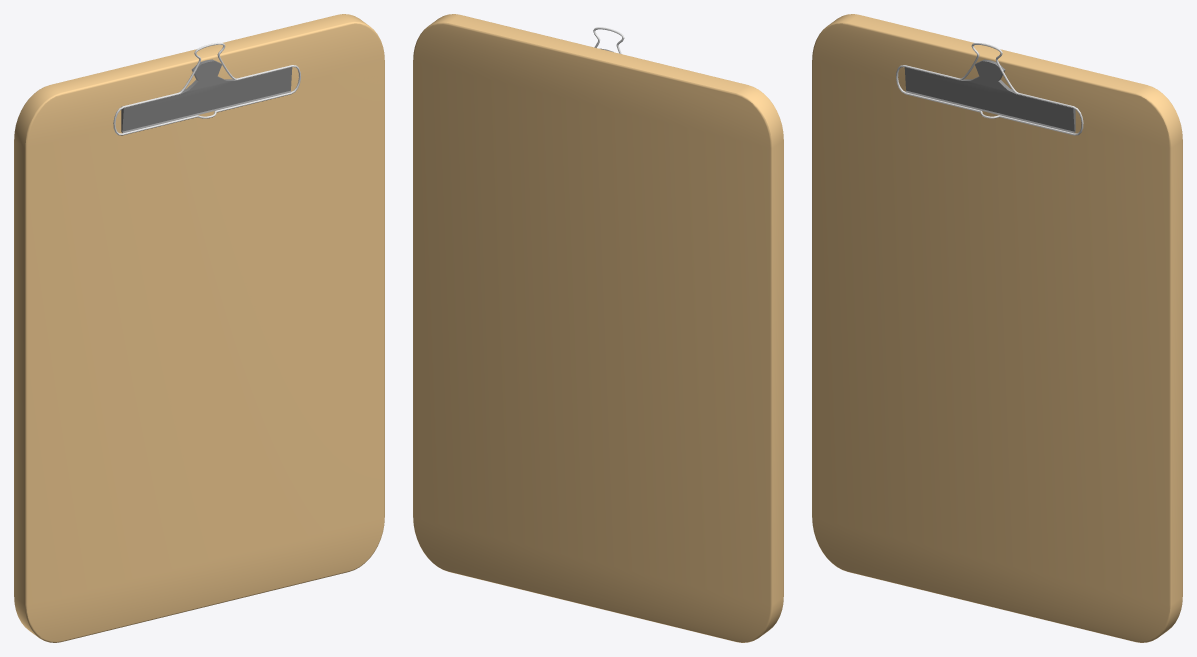
The model's file is Clipboard.fbx.
3 renders of one model, left to right at view 1: azimuth 30°, elevation 25°; view 2: azimuth 150°, elevation 25°; view 3: azimuth 330°, elevation 25°, orthographic.
Visible parts, largest first — view 1: Clipboard; view 2: Clipboard; view 3: Clipboard.
Boxes of the visible parts, x1,y1,x2,y2 form: Clipboard: (14, 14, 384, 642); Clipboard: (413, 14, 783, 642); Clipboard: (812, 14, 1182, 642).
Size of the model in its own units: 1.12 by 1.69 by 0.0939.
